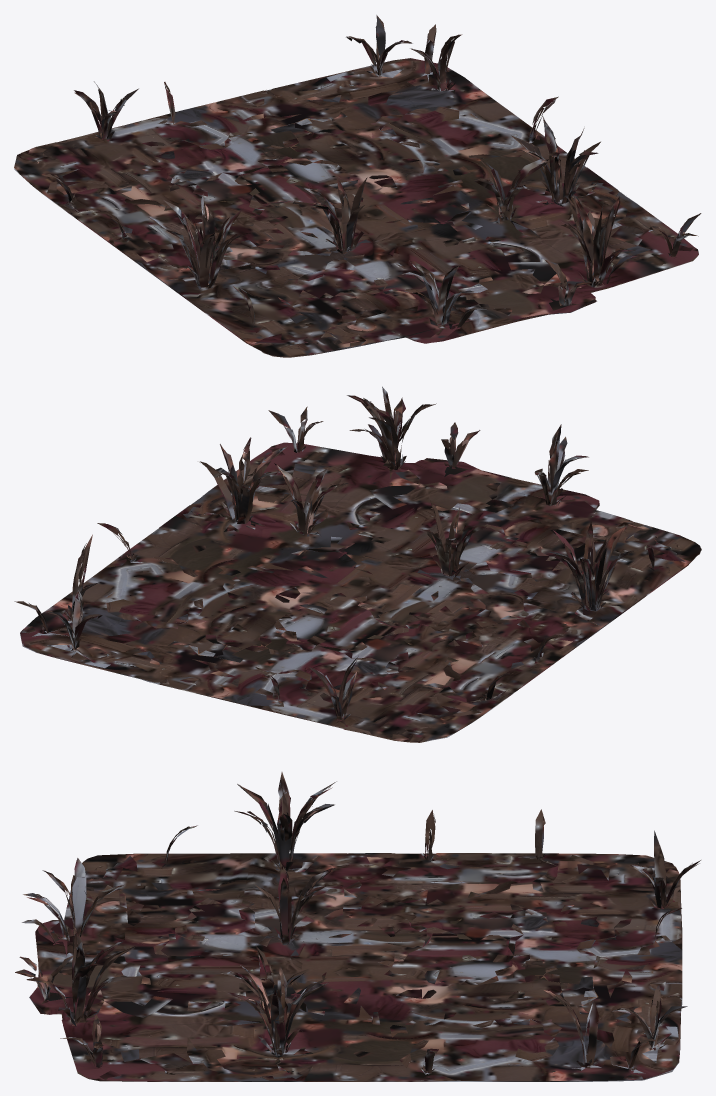
File: Grass1.fbx
The picture shows the model from 3 angles, top to bottom: view 1: azimuth 30°, elevation 25°; view 2: azimuth 150°, elevation 25°; view 3: azimuth 270°, elevation 25°; orthographic projection. The views are drawn at different scales.
Parts seen in each view (by area): view 1: Grass1; view 2: Grass1; view 3: Grass1.
Part boxes in pixels (bbox=[...]): Grass1: bbox=[14, 15, 701, 357]; Grass1: bbox=[14, 386, 701, 742]; Grass1: bbox=[15, 772, 700, 1081].
Bounding box in the file's own units: 0.8681 × 0.145 × 1.03.
